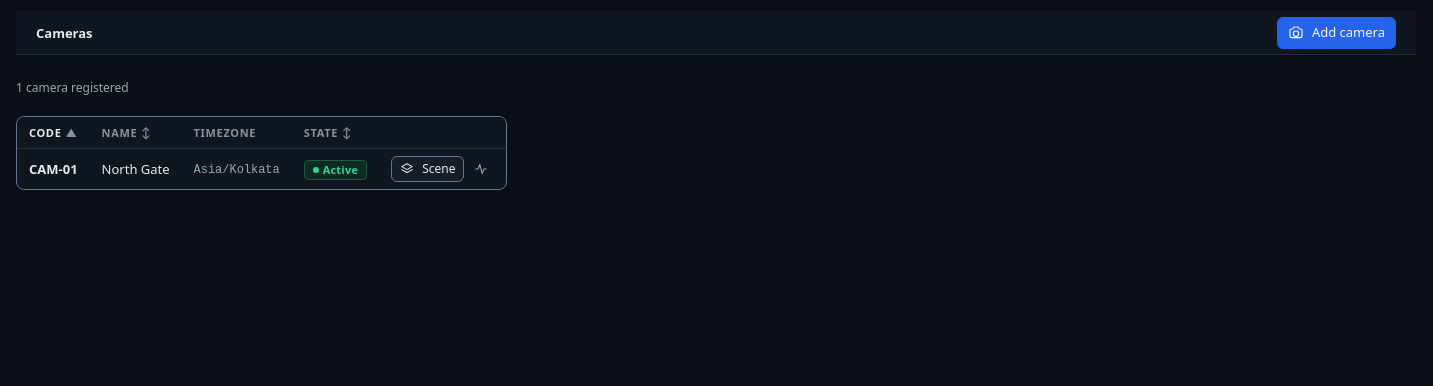
Test: CamerasPage › does not treat the inherited timezone default as an operator edit
Expected: the text "North Gate" is shown, [102, 160, 170, 179]
Click the button "Add camera": (1336, 32) [1277, 16, 1396, 48]
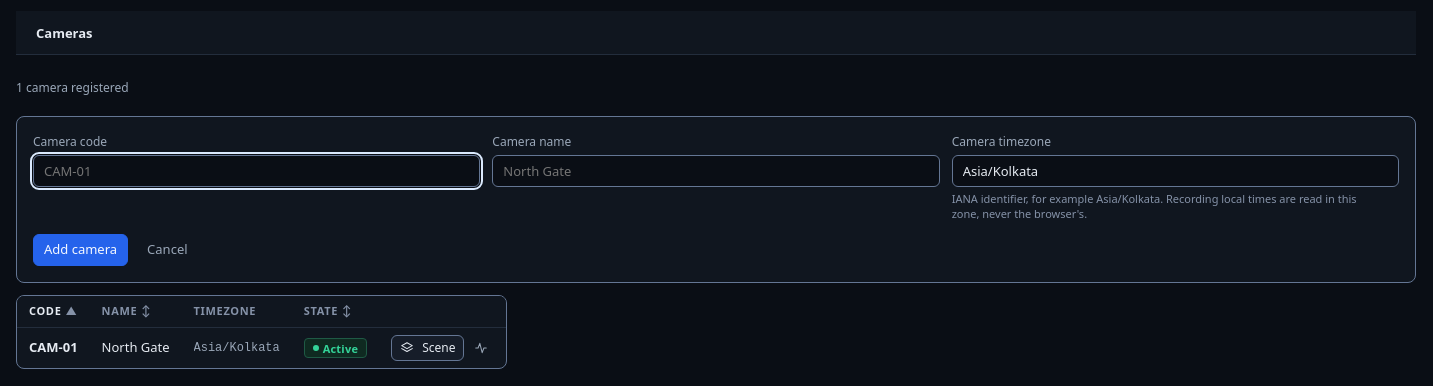
Expected: the text "Unsaved changes" is not shown
Expected: the field labelled "Camera timezone" holds "Asia/Kolkata"
Replace the text in the field labelled "Camera timezone" with "Europe/London": (1175, 171) [952, 155, 1399, 187]
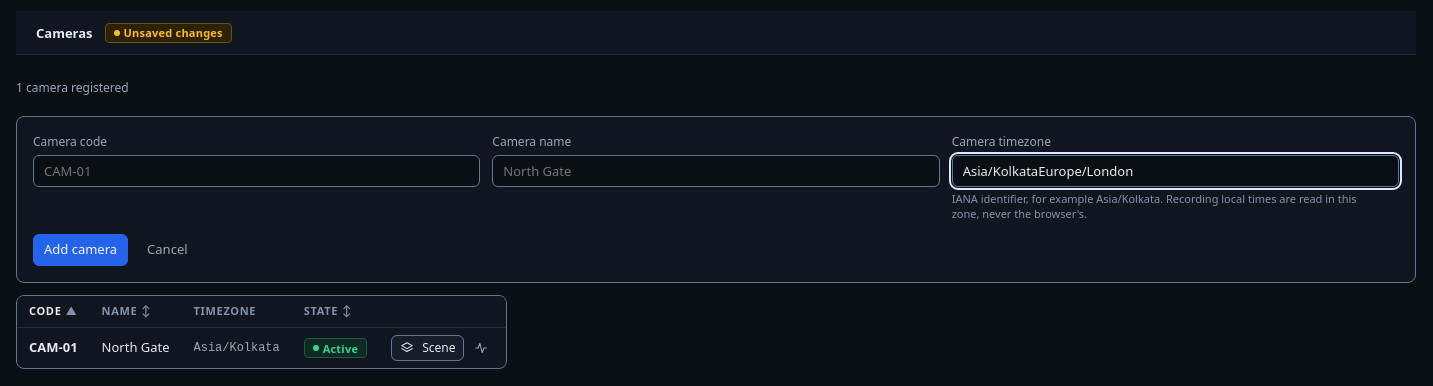
Expected: the text "Unsaved changes" is shown, [104, 22, 232, 42]
Clear the field labelled "Camera timezone": (1175, 171) [952, 155, 1399, 187]
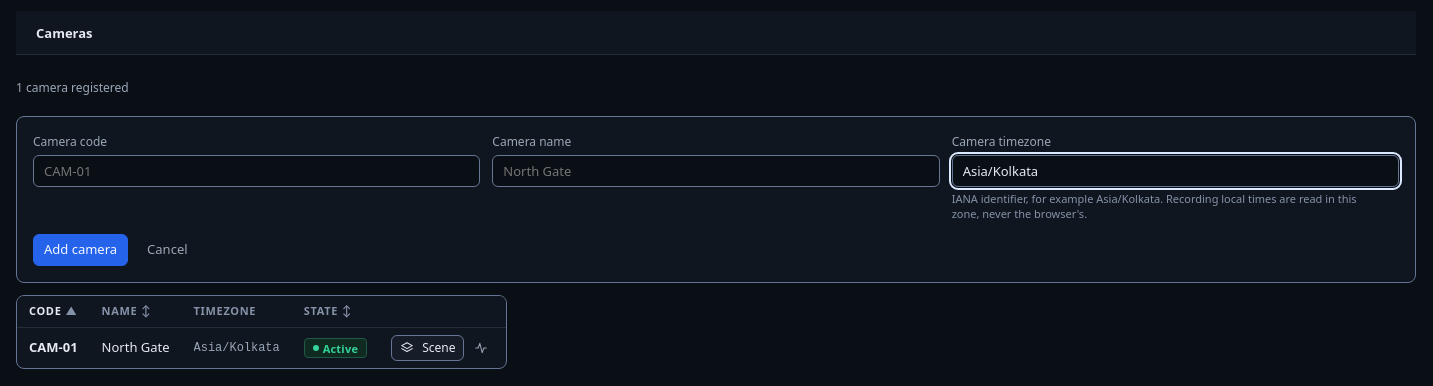
Expected: the field labelled "Camera timezone" holds "Asia/Kolkata", [952, 155, 1399, 187]
Expected: the text "Unsaved changes" is gone
